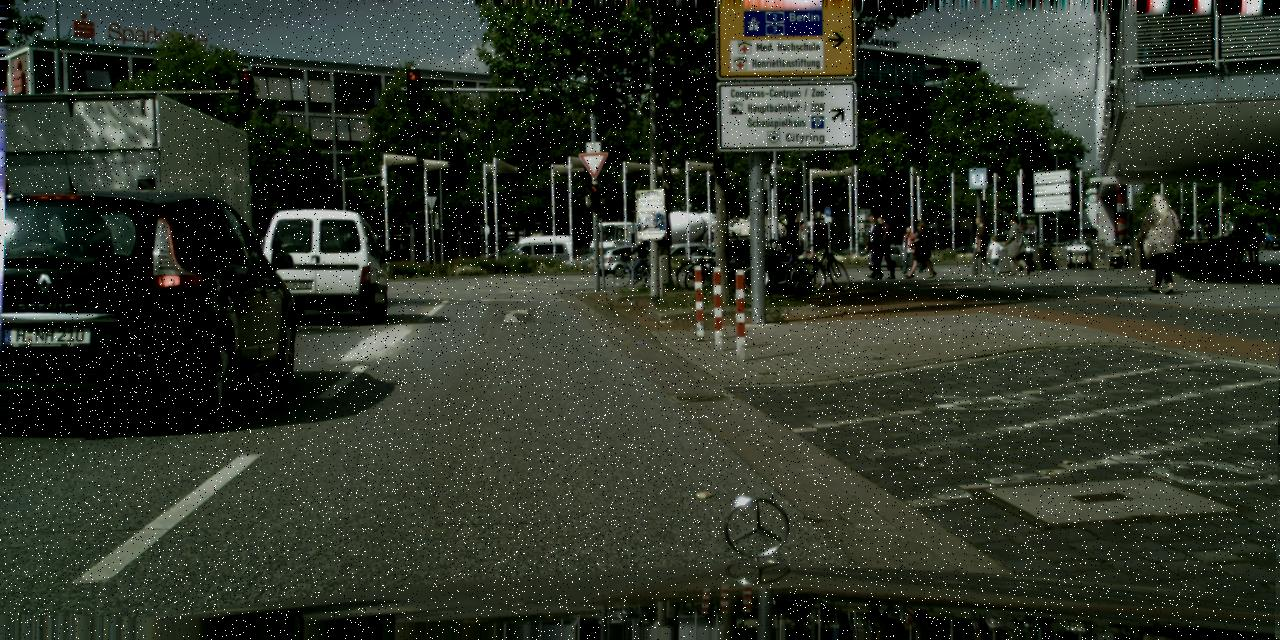ped: (1140, 192, 1180, 292), (860, 213, 886, 278), (869, 216, 894, 276), (968, 215, 992, 274), (1004, 217, 1028, 274), (909, 220, 932, 278), (906, 219, 926, 272), (1241, 219, 1261, 266), (898, 226, 918, 272), (630, 236, 649, 282), (987, 235, 1003, 276), (1109, 247, 1123, 281), (1264, 232, 1270, 247)
